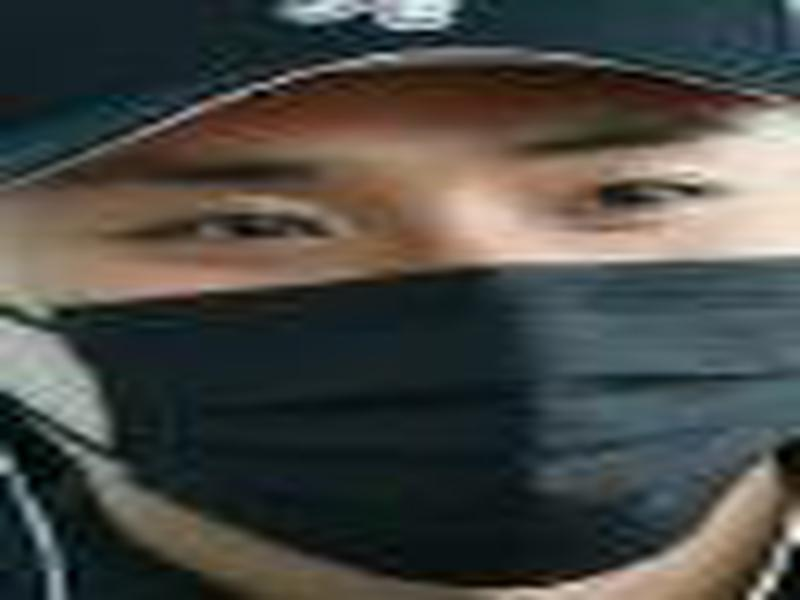with_mask: (1, 56, 799, 587)
